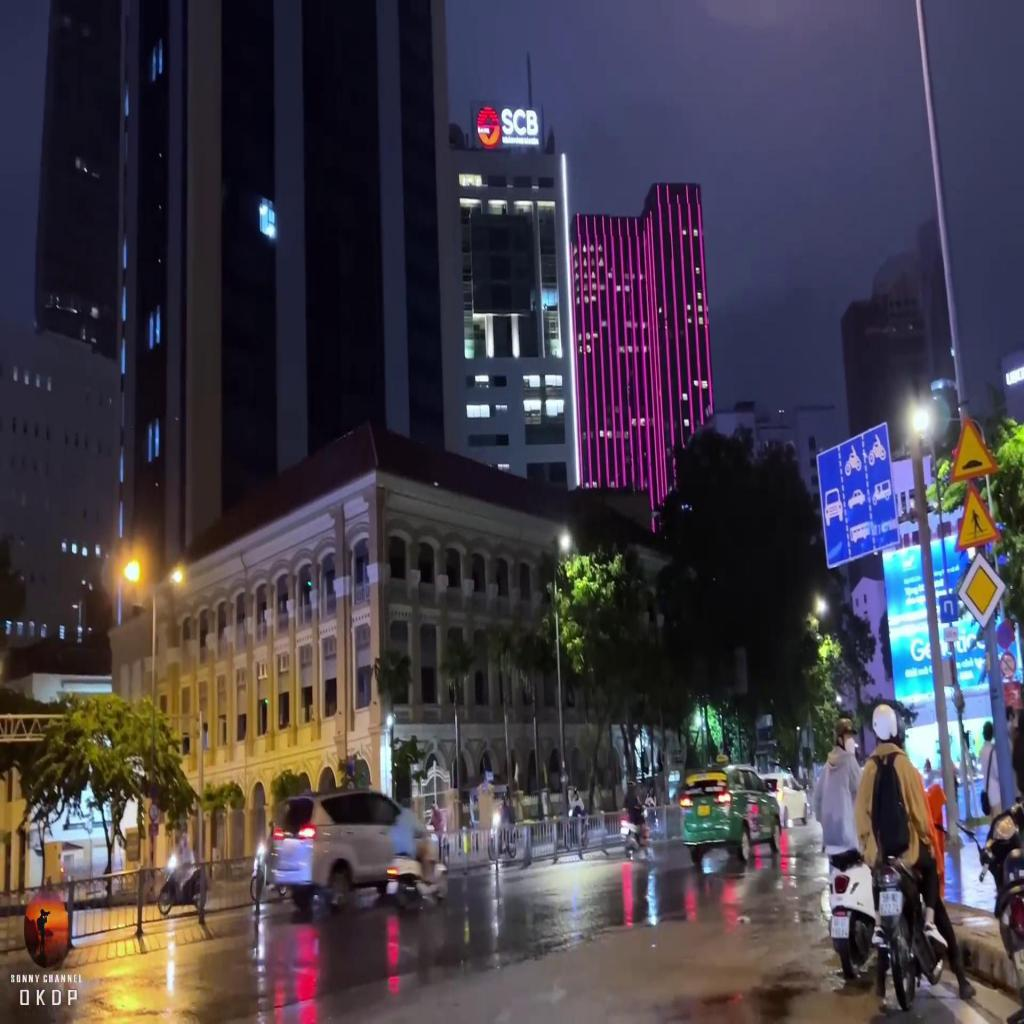cho_quay_xe: (938, 595, 956, 624)
chu_y_nguoi_di_bo_cat_ngang: (954, 484, 1002, 547)
duong_co_song_map_mo_nhan_tao: (948, 400, 1002, 487)
duong_uu_tien: (956, 549, 1008, 631)
khac: (942, 628, 958, 644)
lan_duong_cho_tung_xe_theo_vach_ke_duong: (814, 416, 902, 569)
